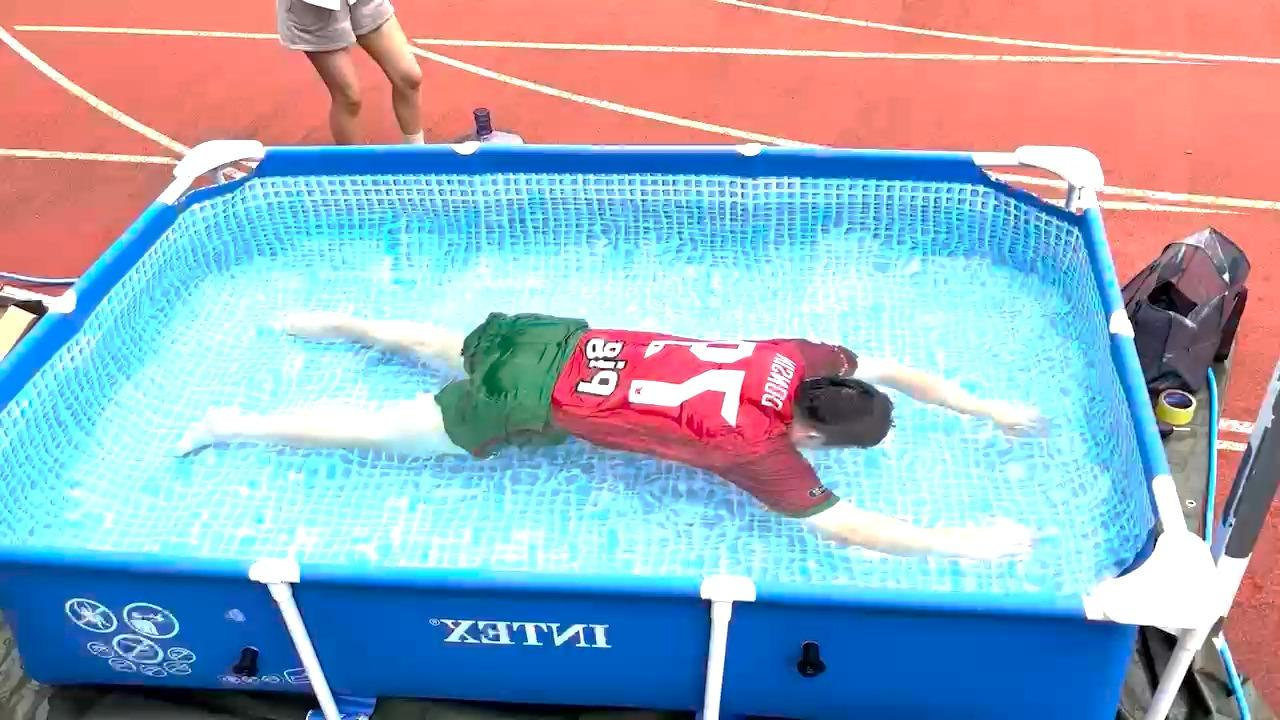Drowning: (165, 260, 1073, 547)
